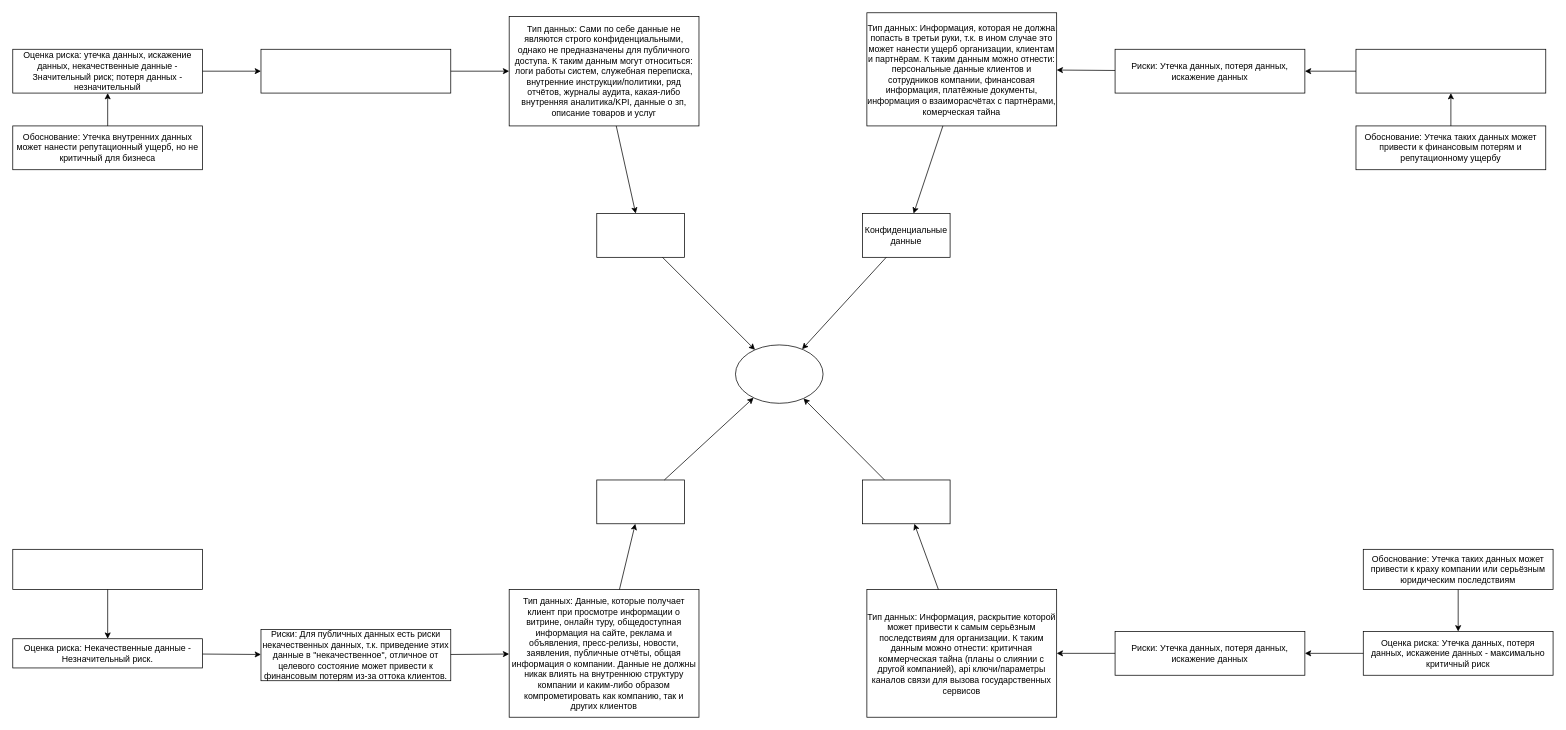
Some shapes in this 1566 by 730 pixel diagram are drawn without their labels. The shapes that lost their labels are listed below. From the top down, each one's centre as x and y in pixels, then its label:
At (x=355, y=71): "Риски: утечка данных, потеря данных, искажение данных, некачественные данные".
At (x=1450, y=71): "Оценка риска: Утечка данных, потеря данных, искажение данных - критичный риск".
At (x=640, y=235): "Внутренние данные".
At (x=779, y=373): "Безопасность данных".
At (x=640, y=501): "Публичные данные".
At (x=906, y=501): "Секретные данные".
At (x=107, y=569): "Обоснование: Данные публичны и их искажение не наносит существенного ущерба".
